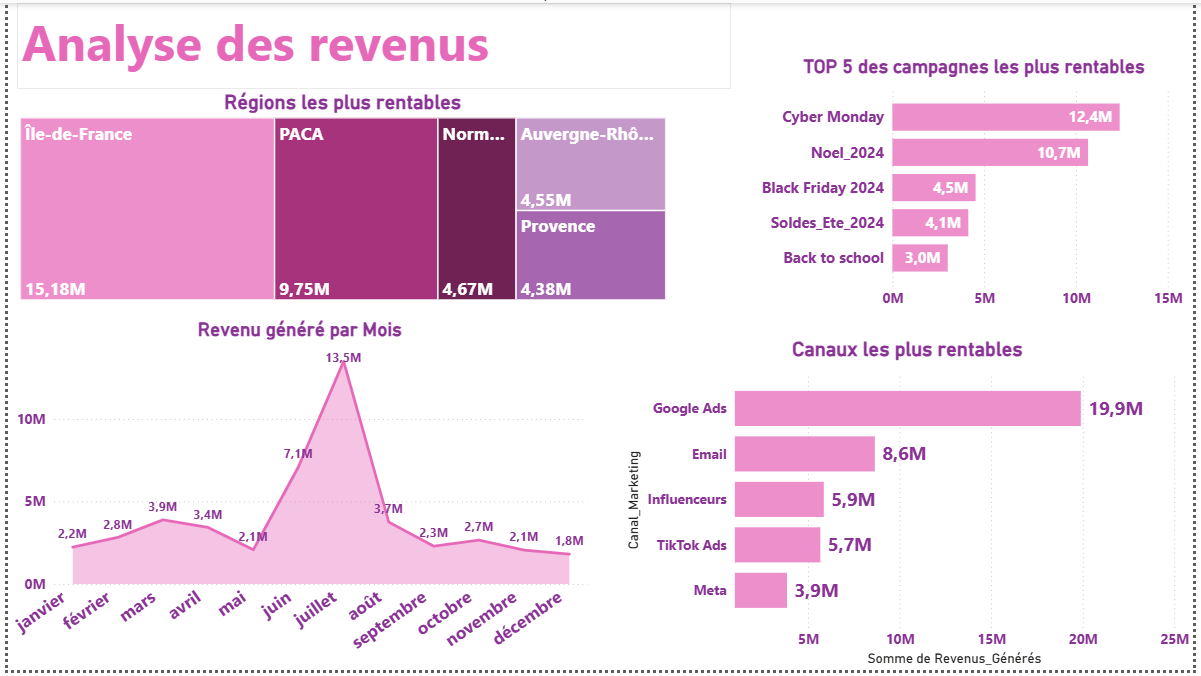

What the dashboard file says about the page in this screenshot:
{"tool":"powerbi","page":{"name":"Revenu","canvas":[1280,720],"ordinal":3},"visuals":[{"type":"textbox","box":[9.4,0,771,92.6],"z":0},{"type":"areaChart","title":"Revenu généré par Mois","fields":{"Y":["Sum(raw_data (2).Revenus_Générés)"],"Category":["raw_data (2).Date.Variation.Hiérarchie de dates.Mois"]},"box":[0,339.5,630.1,379.8],"z":1000},{"type":"clusteredBarChart","title":"Canaux les plus rentables","fields":{"Category":["raw_data (2).Canal_Marketing"],"Y":["Sum(raw_data (2).Revenus_Générés)"]},"box":[661.9,360.7,617.4,358.5],"z":2000},{"type":"clusteredBarChart","title":"TOP 5 des campagnes les plus rentables","fields":{"Category":["raw_data (2).Nom_Campagne"],"Y":["Sum(raw_data (2).Revenus_Générés)"]},"box":[806.2,57.3,473.1,282.2],"z":3000},{"type":"treemap","title":"Régions les plus rentables","fields":{"Values":["Sum(raw_data (2).Revenus_Générés)"],"Group":["raw_data (2).Region"]},"box":[8.5,93.3,706.5,231.3],"z":4000}]}

Visuals, with their boxes in screenshot pixels (x1, y1, x2, y2), scaled from the page's 1280x720 canvas onto the 1201x676 screenshot:
textbox: bbox=(9, 0, 732, 87)
"Revenu généré par Mois" areaChart: bbox=(0, 319, 591, 675)
"Canaux les plus rentables" clusteredBarChart: bbox=(621, 339, 1200, 675)
"TOP 5 des campagnes les plus rentables" clusteredBarChart: bbox=(756, 54, 1200, 319)
"Régions les plus rentables" treemap: bbox=(8, 88, 671, 305)
